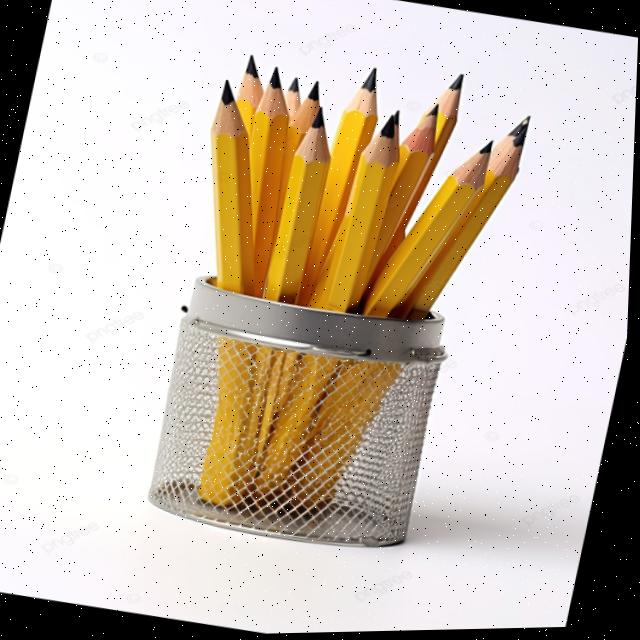pencil: (279, 106, 533, 514), (258, 109, 409, 513), (245, 102, 341, 405), (350, 136, 497, 330), (290, 53, 385, 340), (335, 92, 445, 326), (367, 62, 470, 262), (201, 72, 261, 377), (245, 51, 294, 382), (228, 43, 278, 332), (277, 75, 331, 218), (268, 68, 311, 223)
